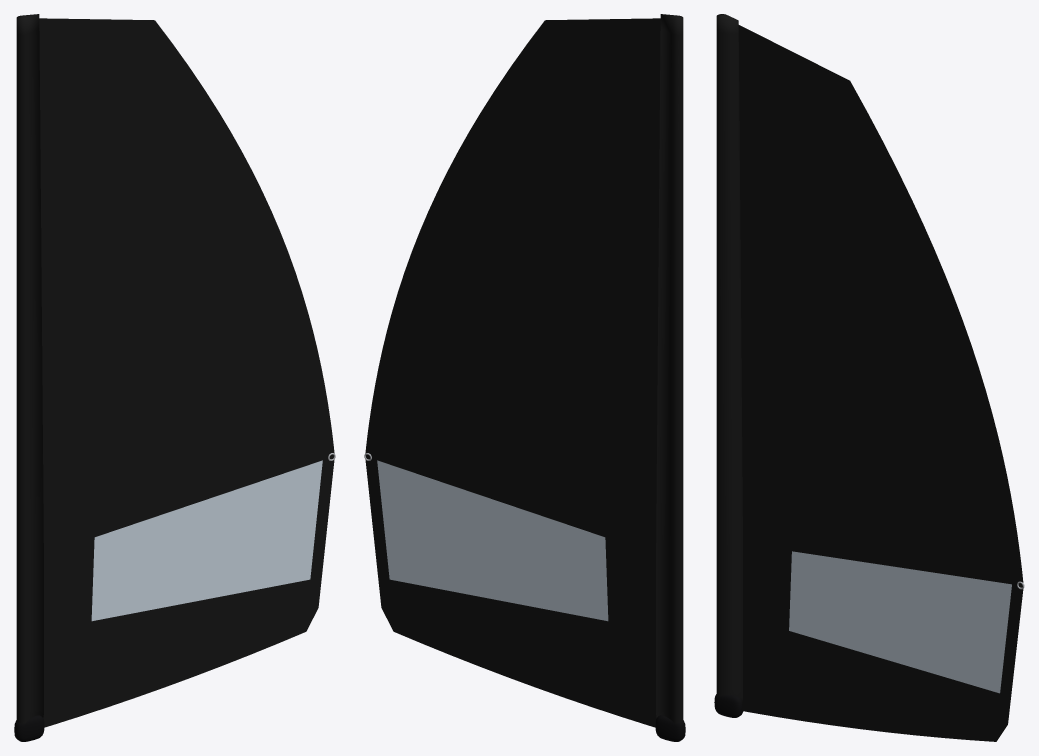
The model's file is nielstrots_freerace_7_2.glb.
The picture shows the model from 3 angles, left to right: view 1: azimuth 30°, elevation 25°; view 2: azimuth 150°, elevation 25°; view 3: azimuth 330°, elevation 25°; orthographic projection. The views are drawn at different scales.
Visible parts, largest first — view 1: SailCloth, TackFairing; view 2: SailCloth, TackFairing; view 3: SailCloth, TackFairing.
Part boxes in pixels (left/top/right/bottom): SailCloth: left=16, top=14, right=334, bottom=727; TackFairing: left=14, top=715, right=44, bottom=741; SailCloth: left=365, top=14, right=683, bottom=727; TackFairing: left=655, top=715, right=685, bottom=741; SailCloth: left=716, top=14, right=1023, bottom=741; TackFairing: left=714, top=694, right=743, bottom=717.
Bounding box in the file's own units: 2.09 × 4.53 × 0.08.
